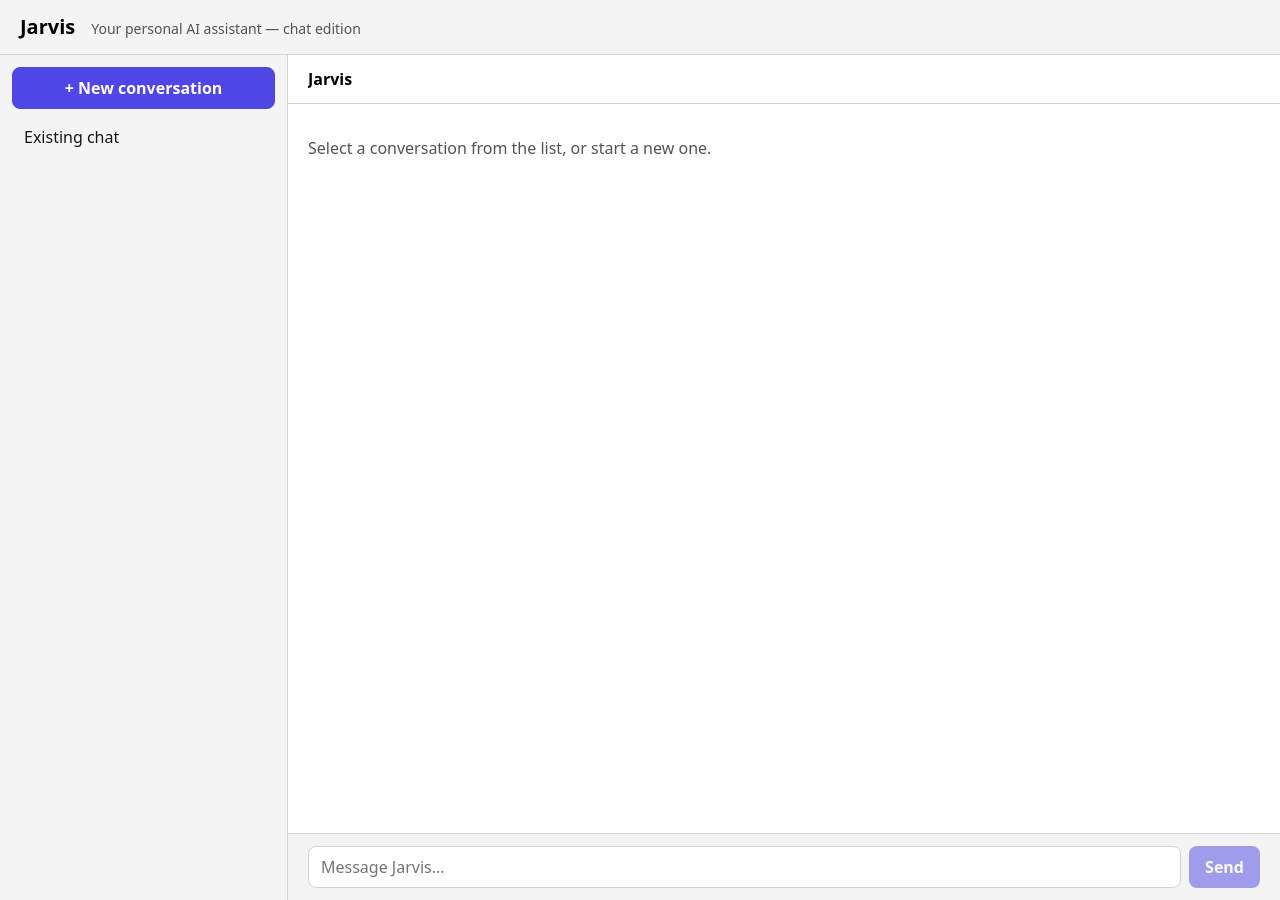
it: sending messages › keeps the draft and shows an error banner when sending fails
Click the button "Existing chat" at (72, 137), box [12, 117, 275, 157]
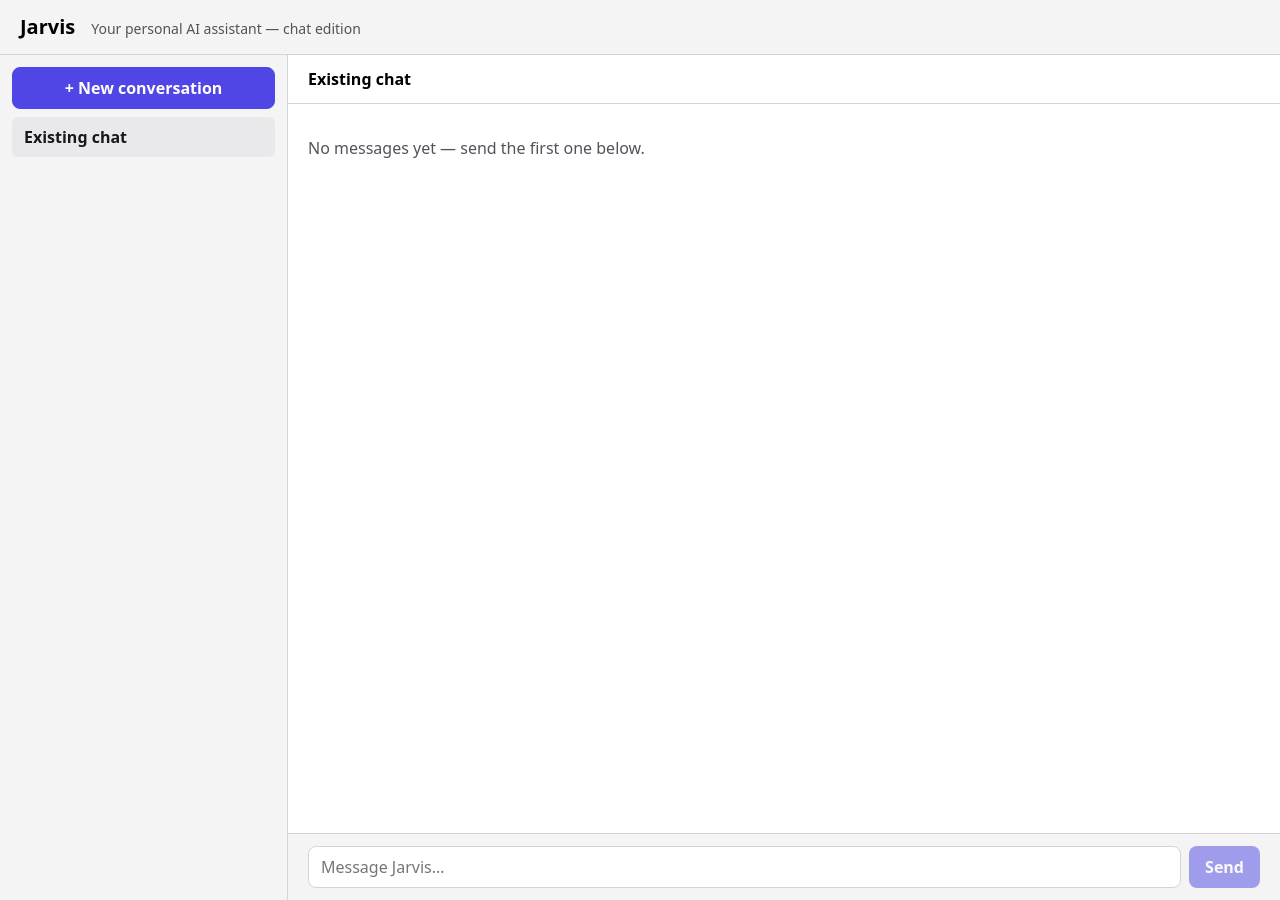
Check: the text "No messages yet — send the first one below." is shown, box [308, 137, 645, 159]
Type "this must survive" into the text box labelled "Message Jarvis" at (745, 867), box [308, 846, 1181, 888]
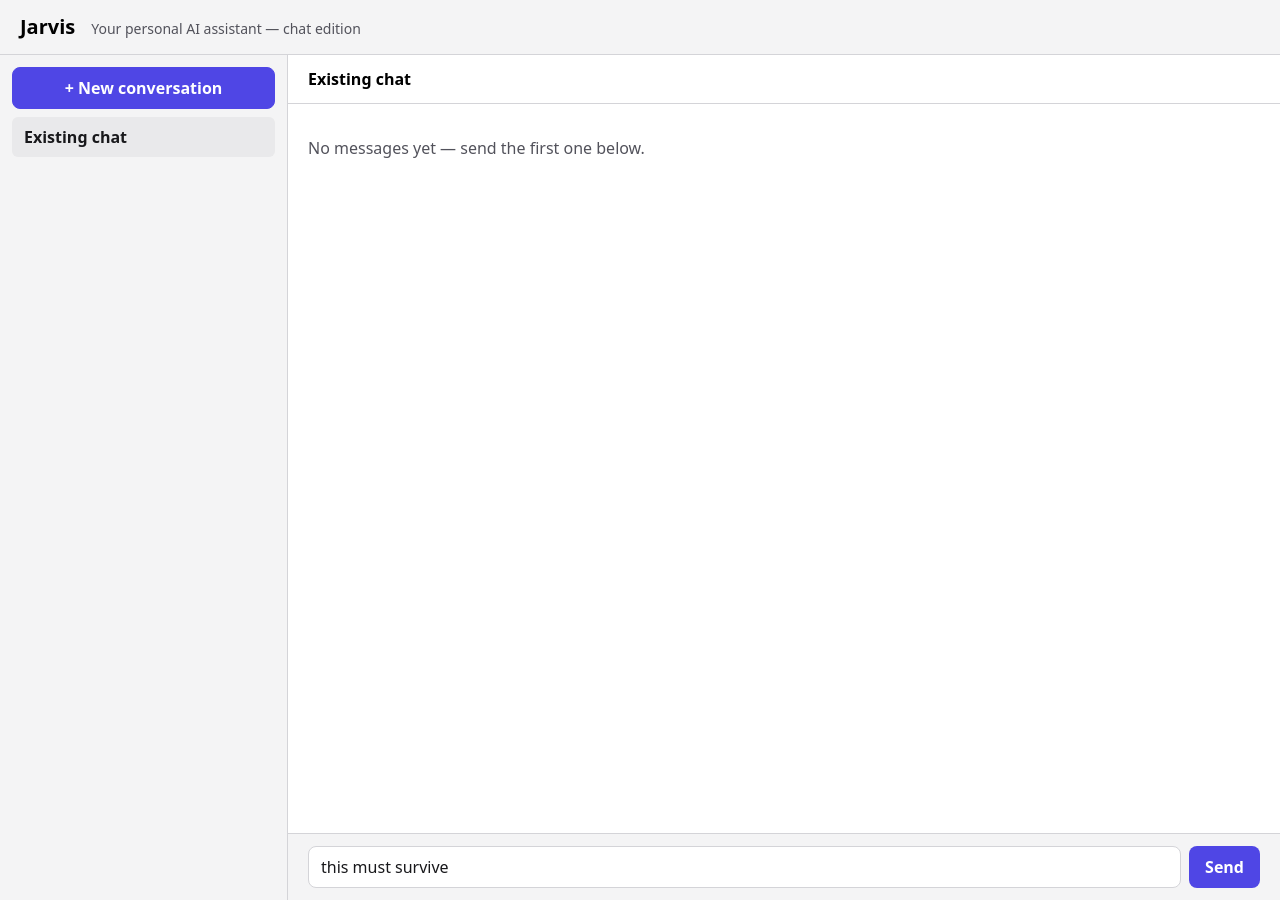
Click the button "Send" at (1225, 867), box [1189, 846, 1260, 888]
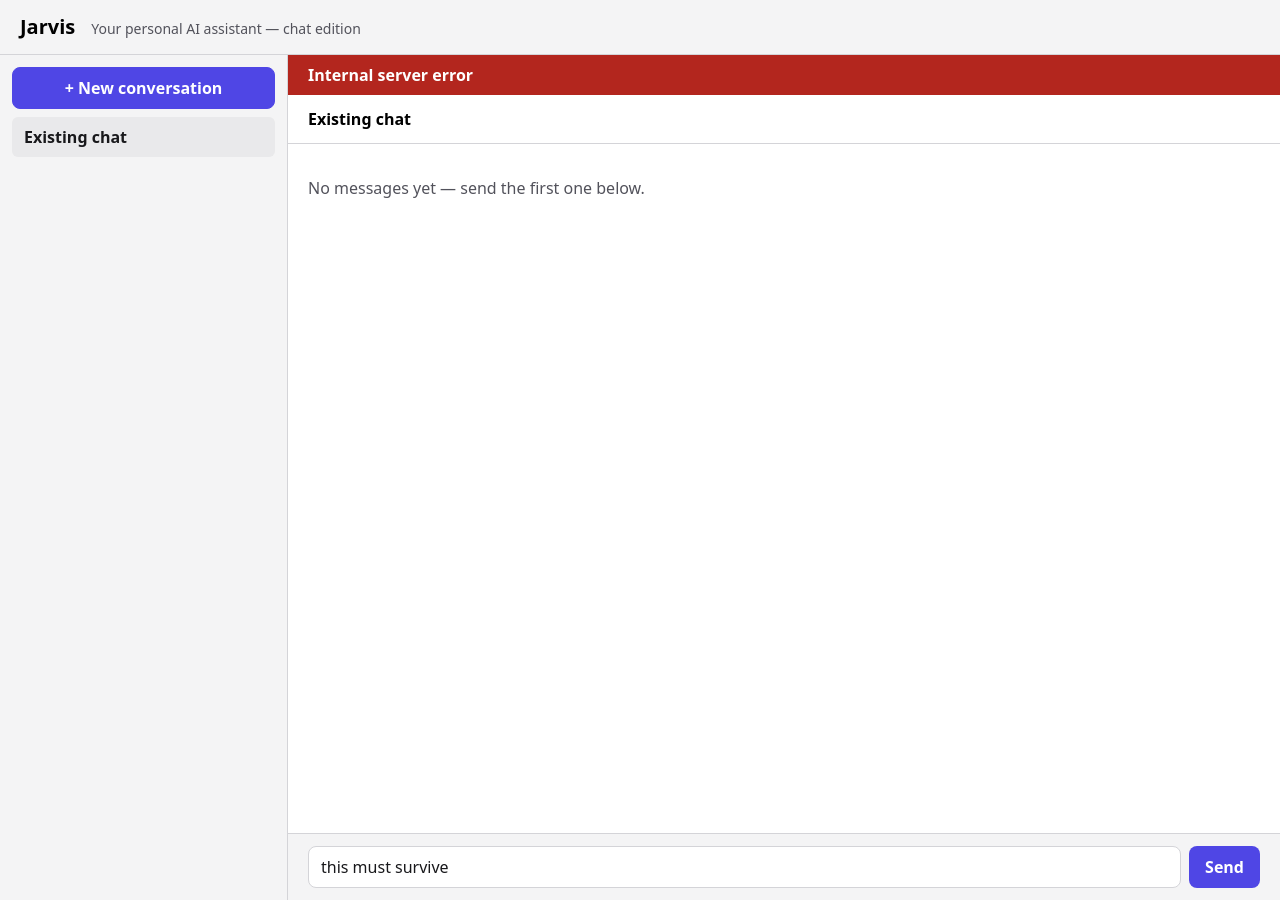
Check: the text "Internal server error" is shown, box [288, 55, 1279, 95]
